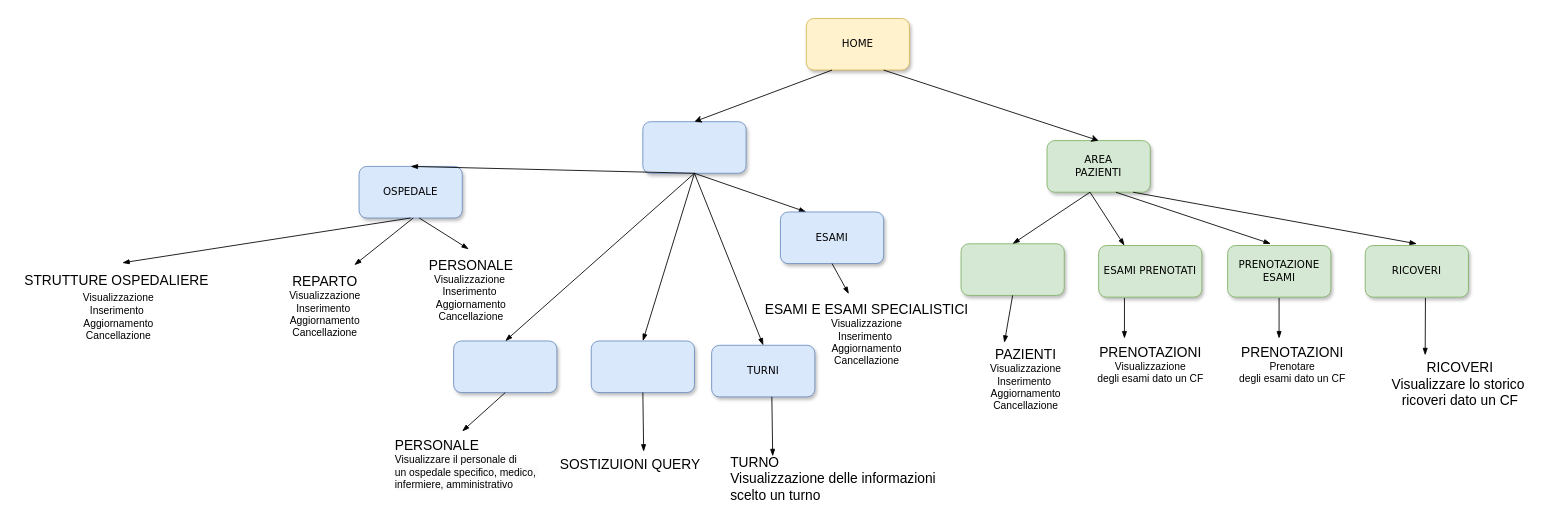
This 1551x519 diagram has some shape labels left out. The shapes that lost their labels are listed below. From the top down, each one's centre as x and y in pixels, then its label:
At point (695, 148): "AREA STRUTTURE".
At point (1013, 270): "NUOVI PAZIENTI".
At point (505, 368): "PERSONALE".
At point (643, 368): "SOSTITUZIONI".
